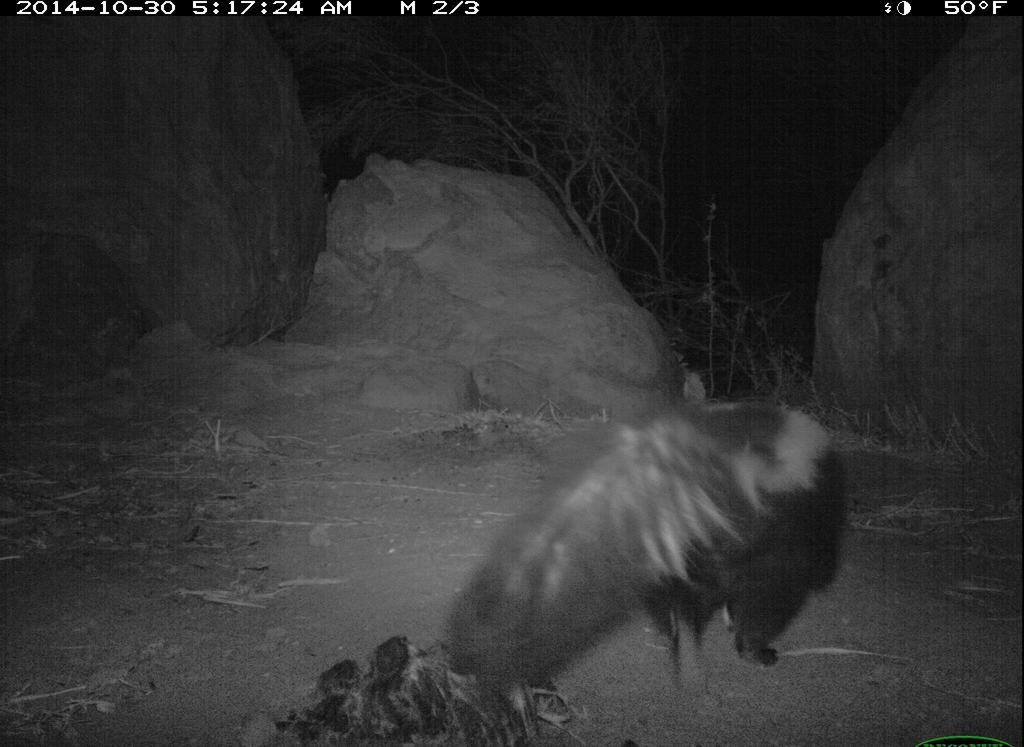skunk: (434, 354, 871, 713)
